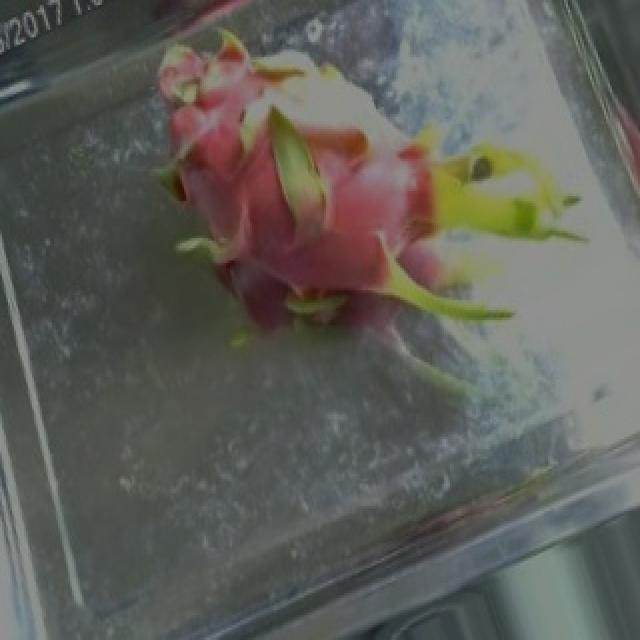fruit: (168, 2, 608, 462)
